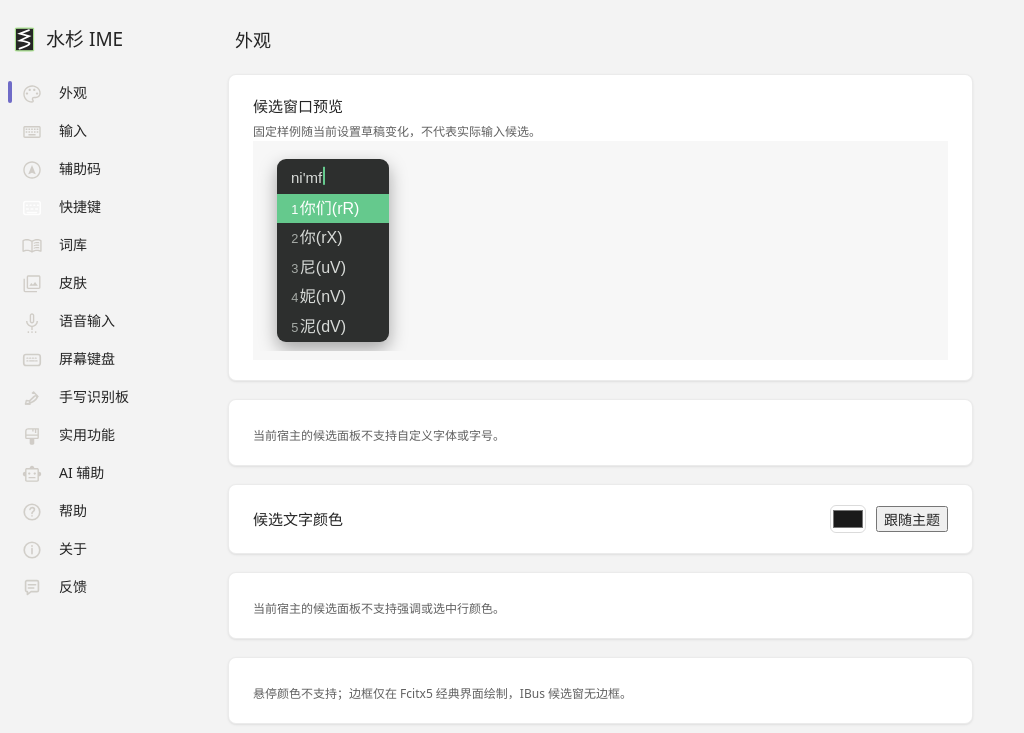
Scenario: Linux exposes Doubao auth mode without exposing provider credentials
Click the button "语音输入" at (68, 320), box [8,302,127,338]
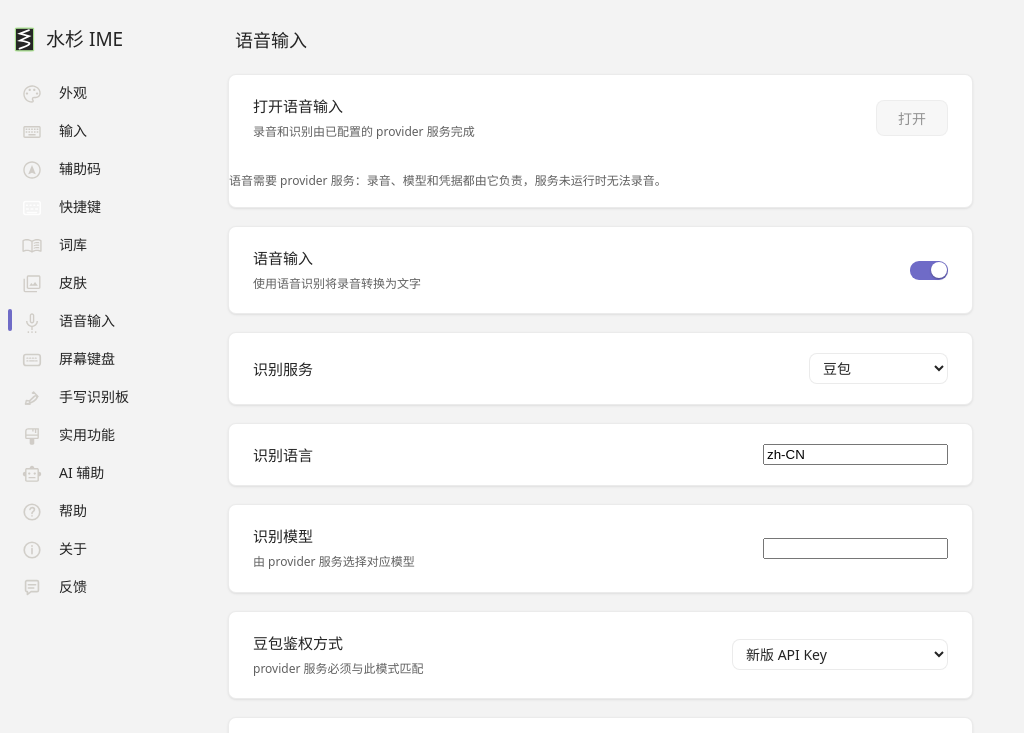
Expected: the dropdown labelled "豆包鉴权方式" shows "新版 API Key"
Select "旧版 App ID + Access Token" in the dropdown labelled "豆包鉴权方式" at (840, 655), box [732,639,948,670]
(page scrolled)
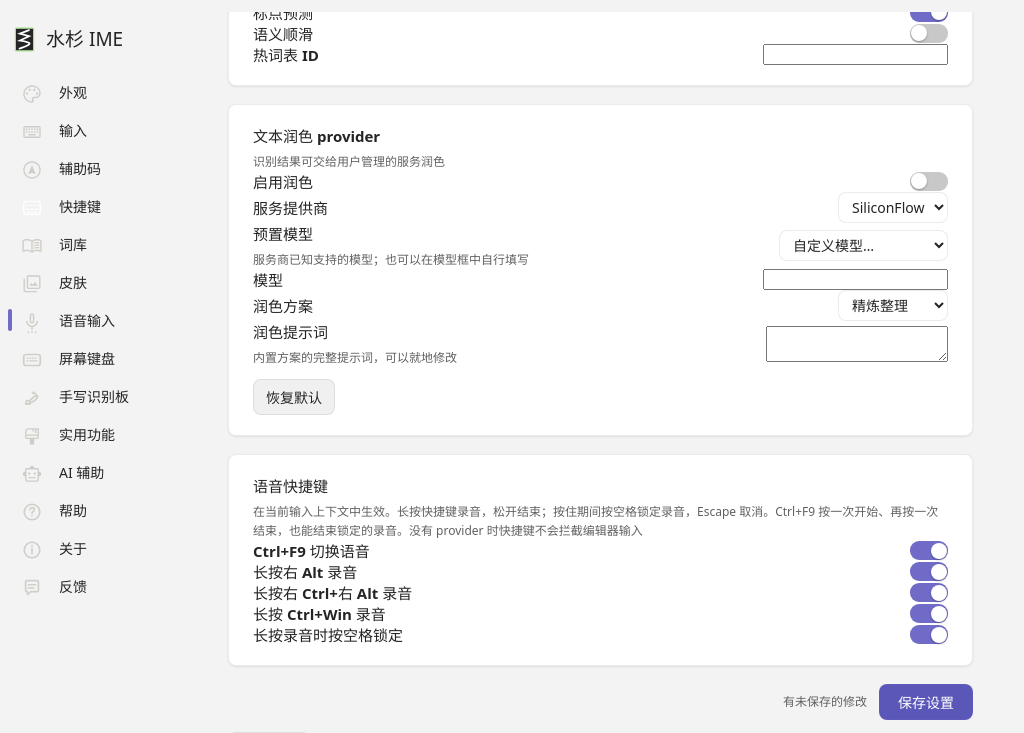
Click the button "保存设置" at (926, 702), box [879,684,973,720]
(page scrolled)
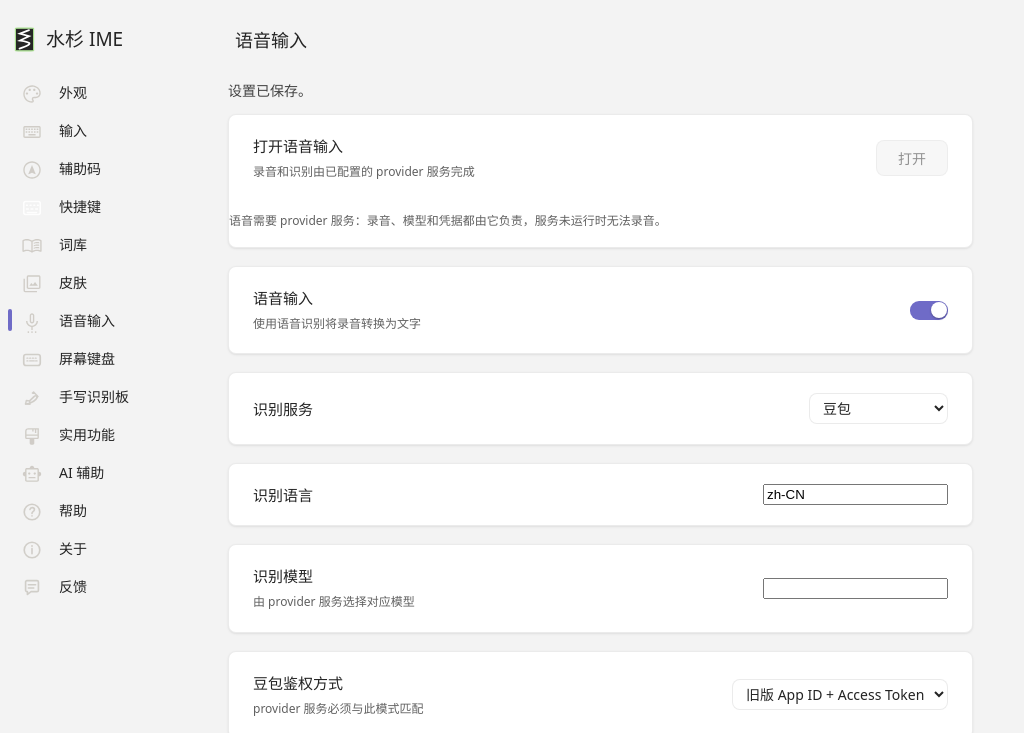
Expected: the text "设置已保存。" is shown, [228,81,312,100]
